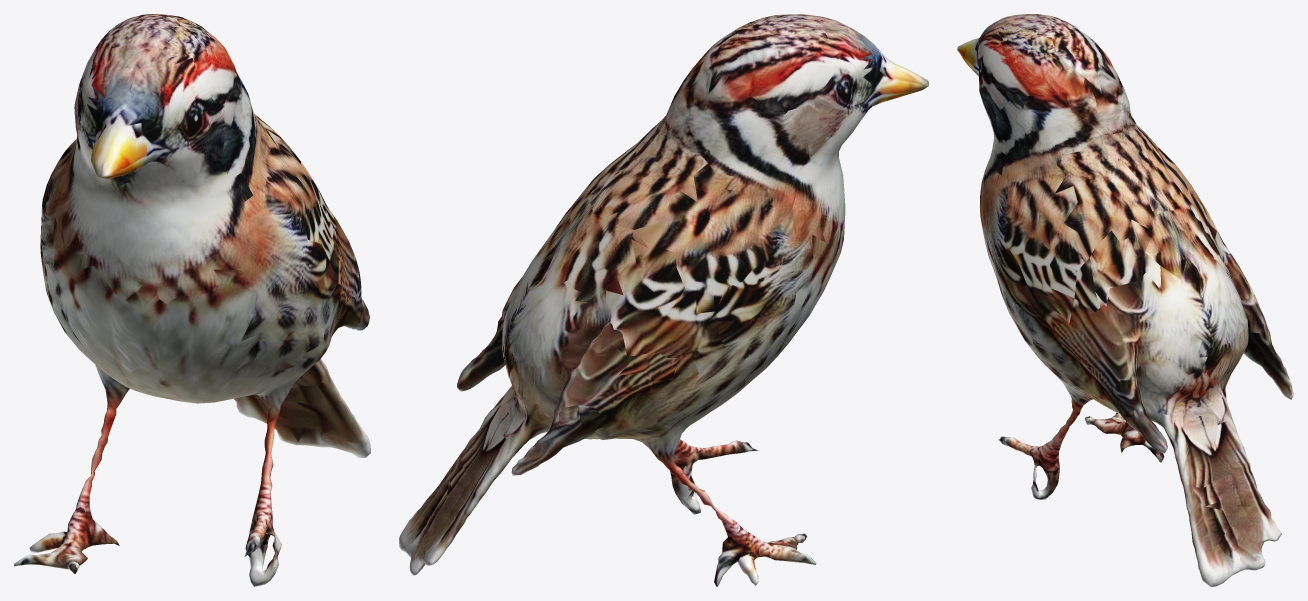
File: pardal.glb
3 views of the same model, side by side, from view 1: azimuth 30°, elevation 25°; view 2: azimuth 150°, elevation 25°; view 3: azimuth 270°, elevation 25° (orthographic). The views are drawn at different scales.
Visible parts, largest first — view 1: Sparrow; view 2: Sparrow; view 3: Sparrow.
Boxes of the visible parts, bbox=[...] form: Sparrow: bbox=[14, 14, 370, 586]; Sparrow: bbox=[399, 14, 928, 586]; Sparrow: bbox=[957, 14, 1293, 586].
Size of the model in its own units: 0.1152 by 0.15 by 0.1025.
Materials: 1 (1 with a texture image).
